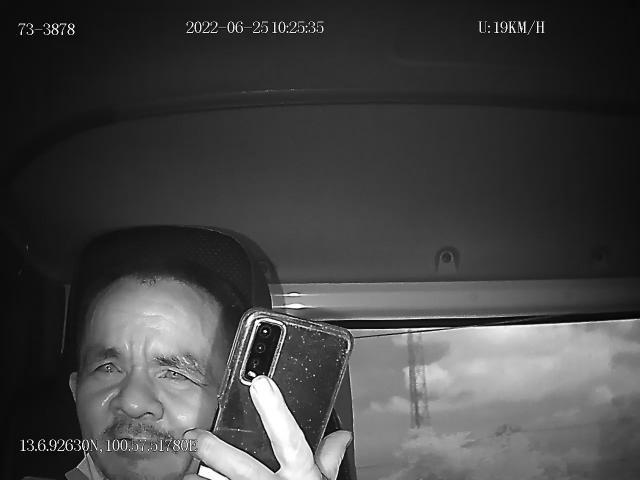PhoneUse: (203, 306, 354, 480)
SafeDriving: (150, 353, 200, 389), (85, 349, 129, 384)
